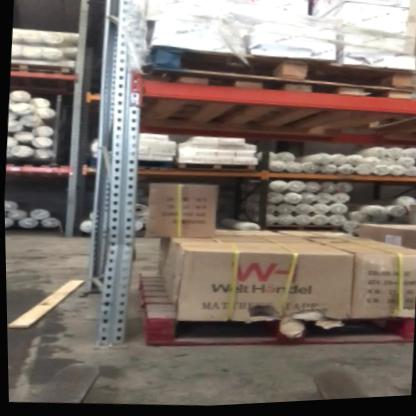vertical_damage: (104, 212, 143, 275)
